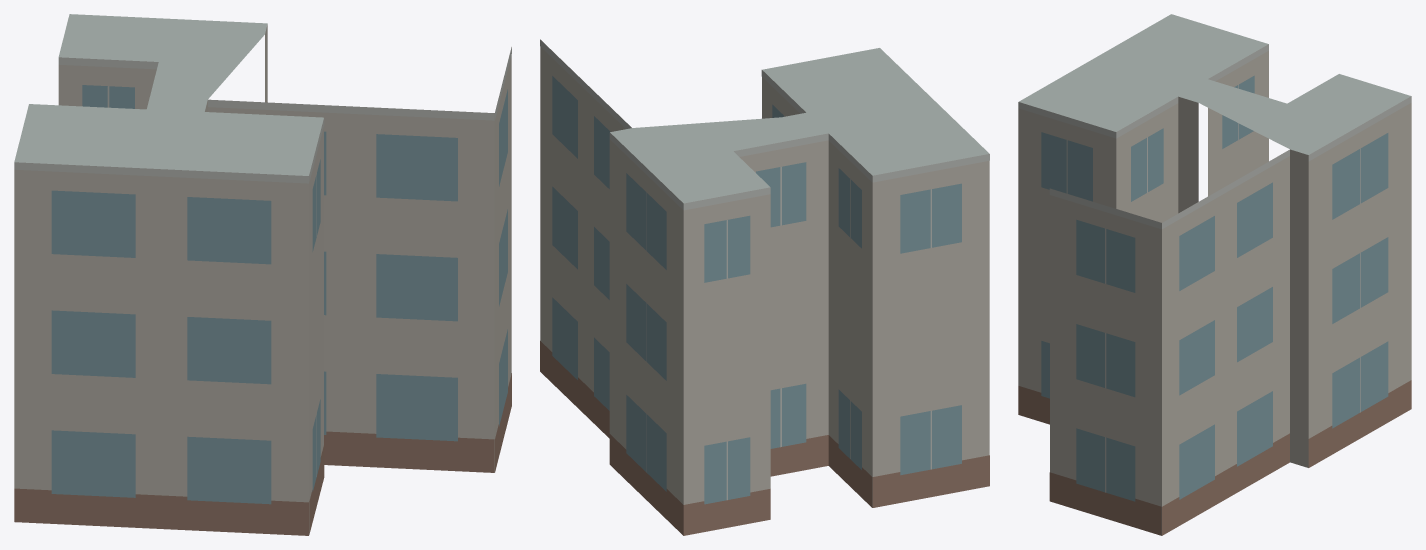
File: survey-upis-32470340.glb
3 renders of one model, left to right at view 1: azimuth 30°, elevation 25°; view 2: azimuth 150°, elevation 25°; view 3: azimuth 270°, elevation 25°, orthographic. The views are drawn at different scales.
Parts seen in each view (by area): view 1: survey-upis-32470340.tmp; view 2: survey-upis-32470340.tmp; view 3: survey-upis-32470340.tmp.
Boxes of the visible parts, bbox=[...] form: survey-upis-32470340.tmp: bbox=[14, 14, 511, 535]; survey-upis-32470340.tmp: bbox=[540, 39, 989, 535]; survey-upis-32470340.tmp: bbox=[1018, 14, 1411, 535].
Size of the model in its own units: 16.81 by 11.74 by 13.37.
